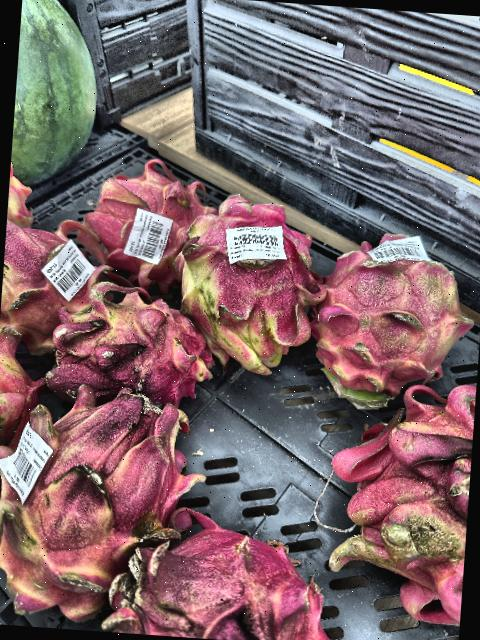buah-naga-belum-matang: (0, 380, 182, 611), (320, 366, 476, 596), (306, 227, 464, 401), (169, 199, 320, 365), (55, 273, 218, 405), (0, 210, 92, 333), (0, 324, 47, 438)
buah-naga-matang: (112, 510, 338, 640), (78, 159, 202, 271)
